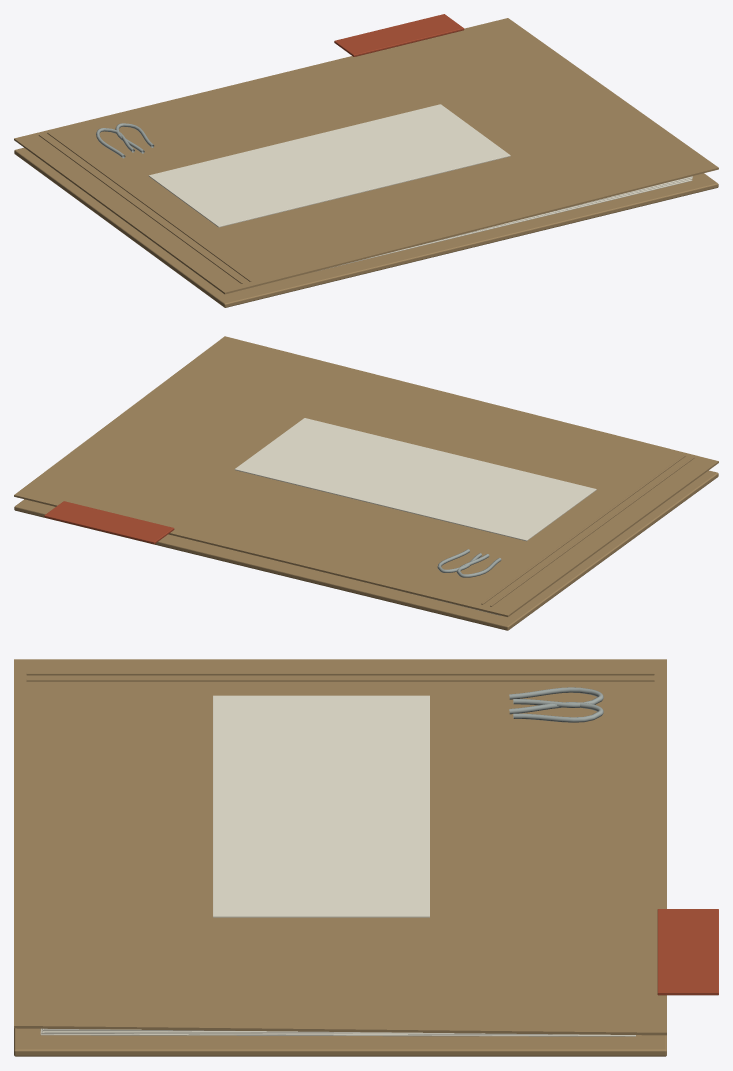
File: A17_Folio.fbx
3 renders of one model, top to bottom at view 1: azimuth 30°, elevation 25°; view 2: azimuth 150°, elevation 25°; view 3: azimuth 270°, elevation 25°, orthographic. The views are drawn at different scales.
Visible parts, largest first — view 1: Folio_Card, Label field, Folio_Tab, Folio_Paper, Folio_Steel; view 2: Folio_Card, Label field, Folio_Tab, Folio_Steel; view 3: Folio_Card, Label field, Folio_Tab, Folio_Paper, Folio_Steel.
Part boxes in pixels (x1,y1,x2,y2): Folio_Card: (14, 18, 718, 307); Label field: (148, 104, 510, 227); Folio_Tab: (334, 14, 464, 56); Folio_Paper: (317, 176, 692, 271); Folio_Steel: (96, 123, 154, 158); Folio_Card: (14, 336, 718, 630); Label field: (234, 418, 596, 541); Folio_Tab: (44, 501, 174, 544); Folio_Steel: (437, 549, 501, 577); Folio_Card: (14, 659, 666, 1056); Label field: (213, 695, 429, 917); Folio_Tab: (657, 909, 718, 995); Folio_Paper: (40, 1028, 635, 1036); Folio_Steel: (509, 687, 603, 722).
Size of the model in its own units: 46 by 2.26 by 36.7.
